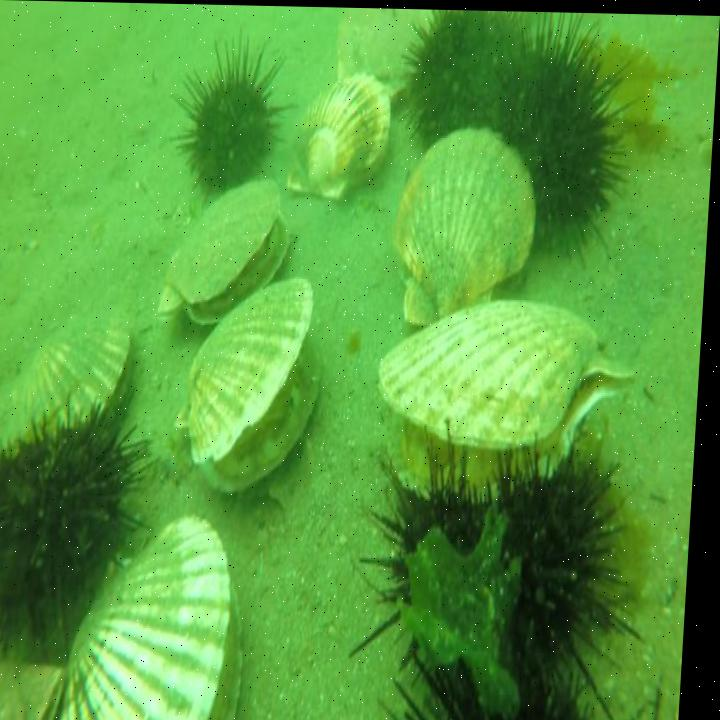echinus: (480, 418, 644, 670), (360, 423, 517, 671), (0, 414, 148, 661), (483, 9, 629, 251), (167, 26, 301, 192), (385, 634, 612, 720), (399, 7, 524, 153)
scallop: (371, 283, 642, 499), (65, 505, 261, 720), (178, 270, 332, 497), (388, 117, 545, 322), (0, 297, 146, 472), (157, 170, 295, 343), (288, 69, 396, 204), (330, 6, 430, 104)
